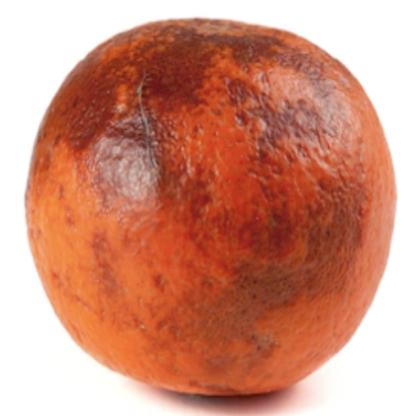rotten: (30, 20, 397, 391)
